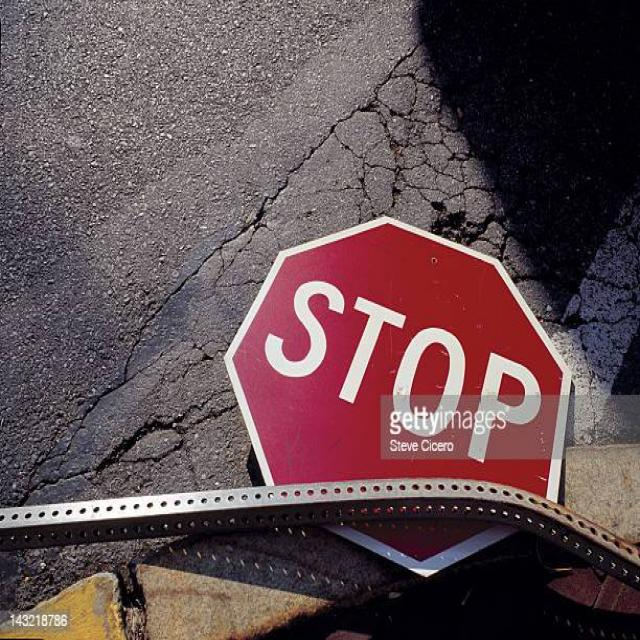stop-sign: (205, 211, 559, 477)
